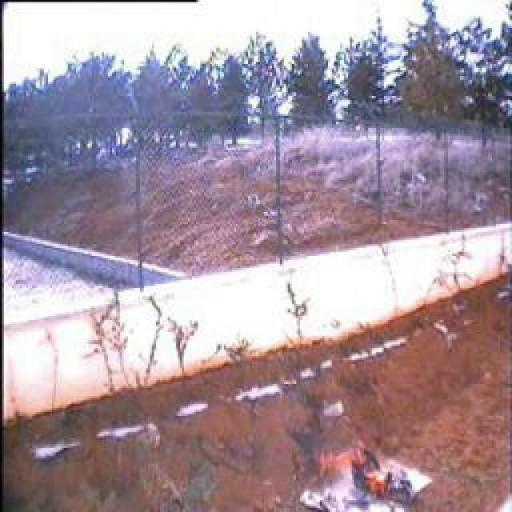smoke: (318, 438, 412, 502)
